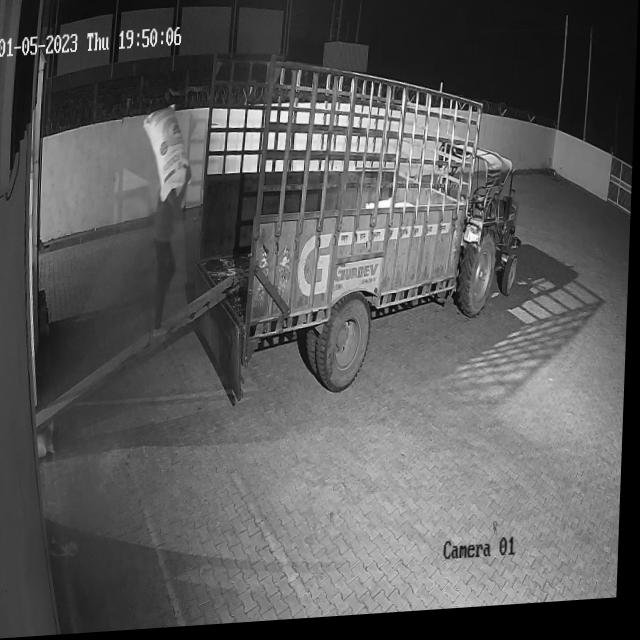sack: (142, 105, 195, 204)
